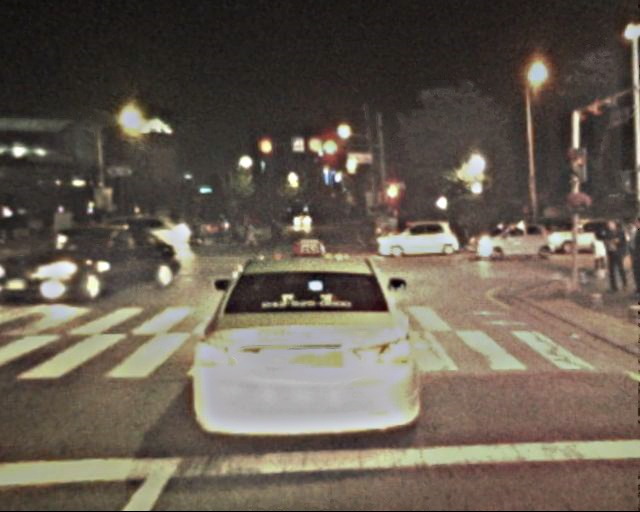person: (598, 218, 627, 288), (586, 227, 608, 280), (180, 213, 203, 244), (236, 210, 252, 250), (266, 215, 281, 252), (227, 218, 240, 250), (211, 216, 224, 247)
